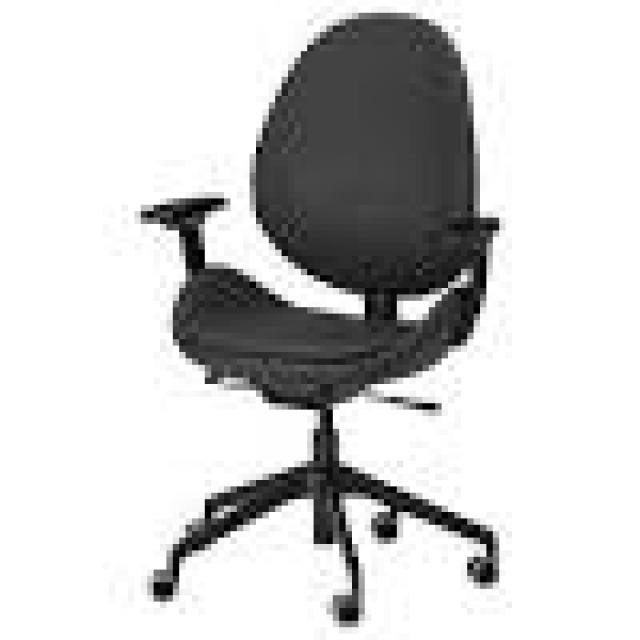chair: (102, 0, 570, 640)
